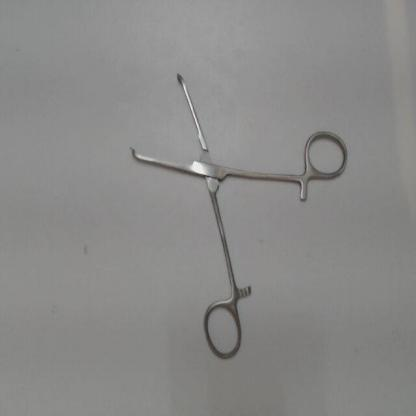Allis Tissue Forceps: (117, 57, 352, 365)
